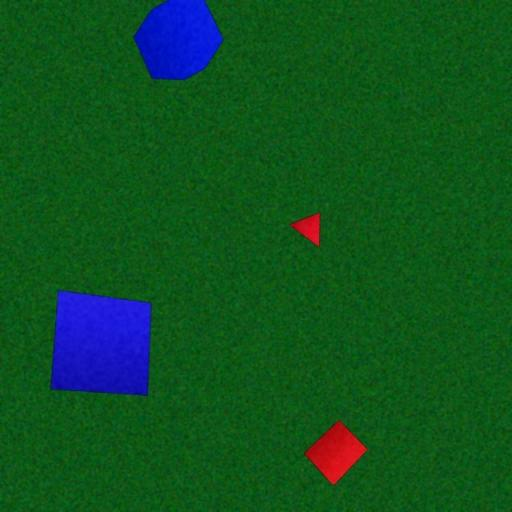BLUE_SQUARE: (50, 290, 152, 396)
RED_SQUARE: (303, 420, 369, 486)
